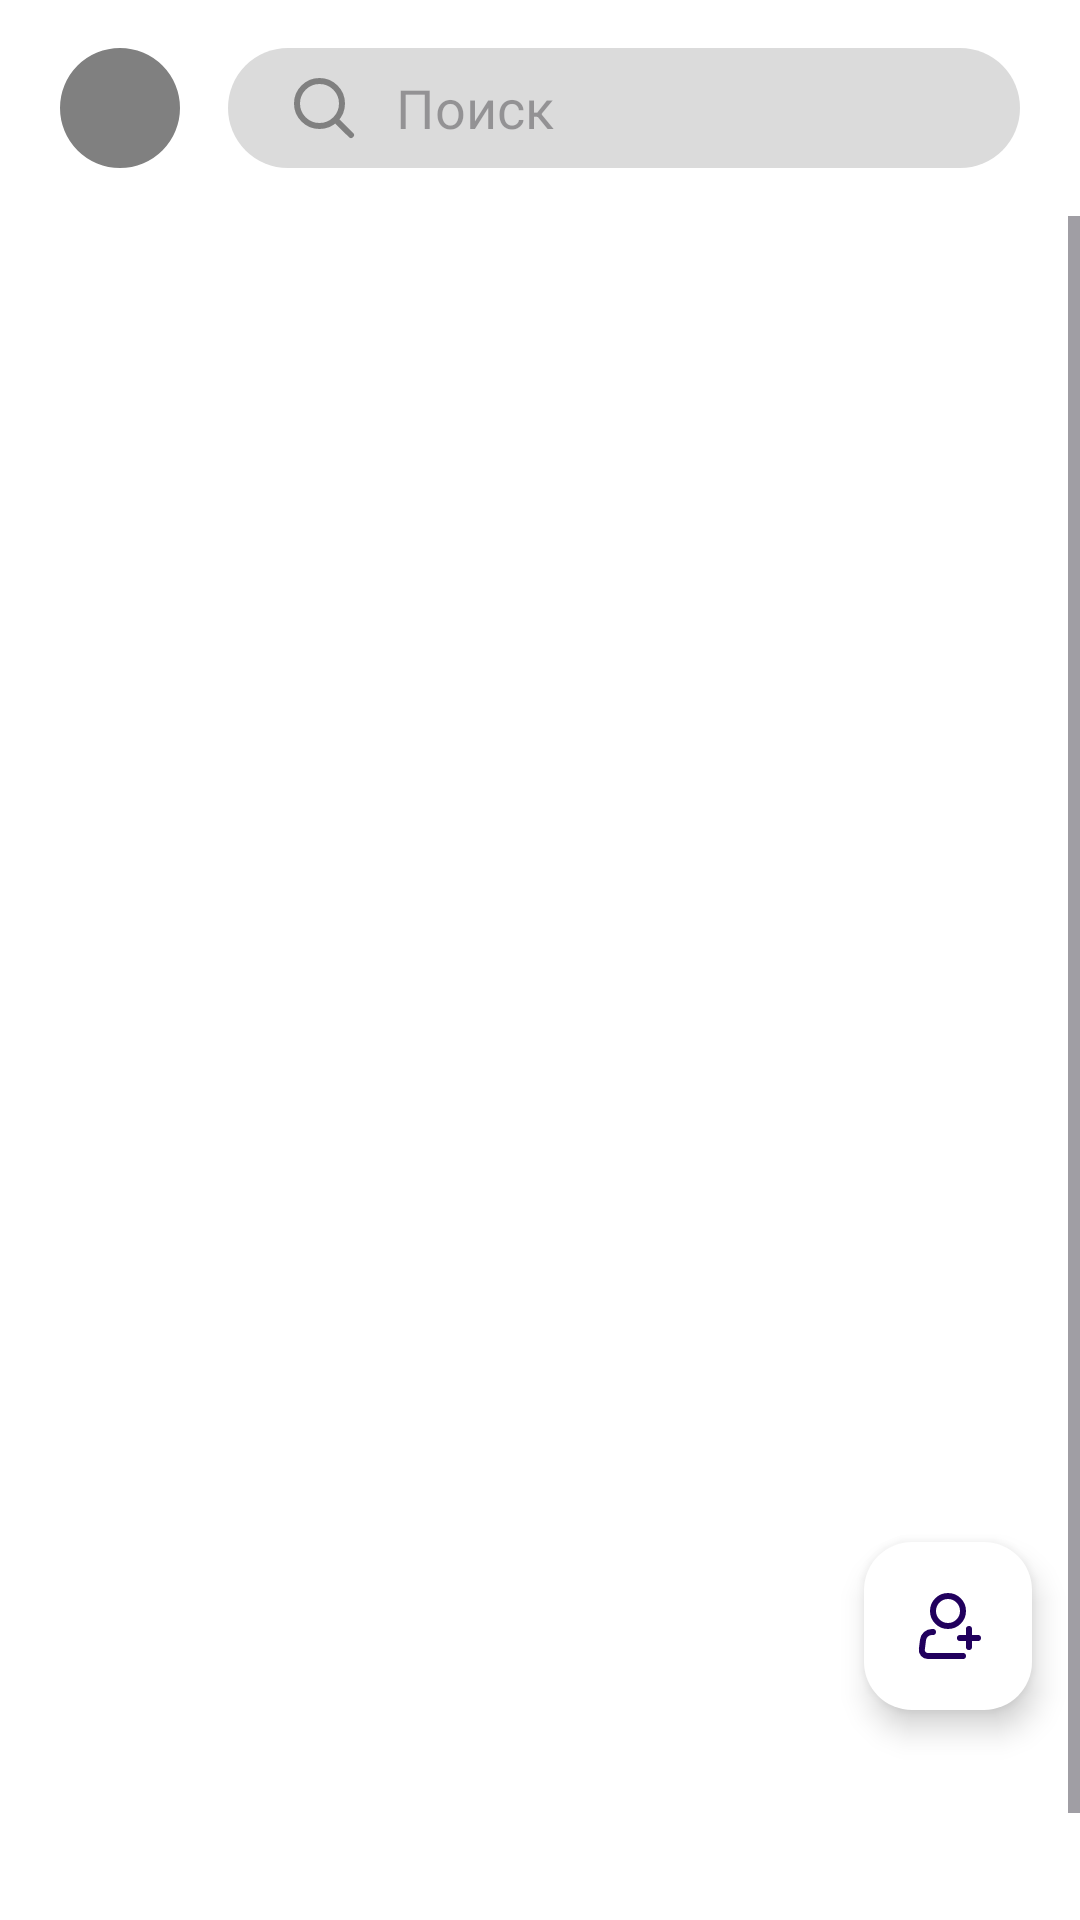

Where icons sit on this 1080*1920 app screen, as (x1, y1, x2, y2):
add client: (919, 1593, 981, 1659)
